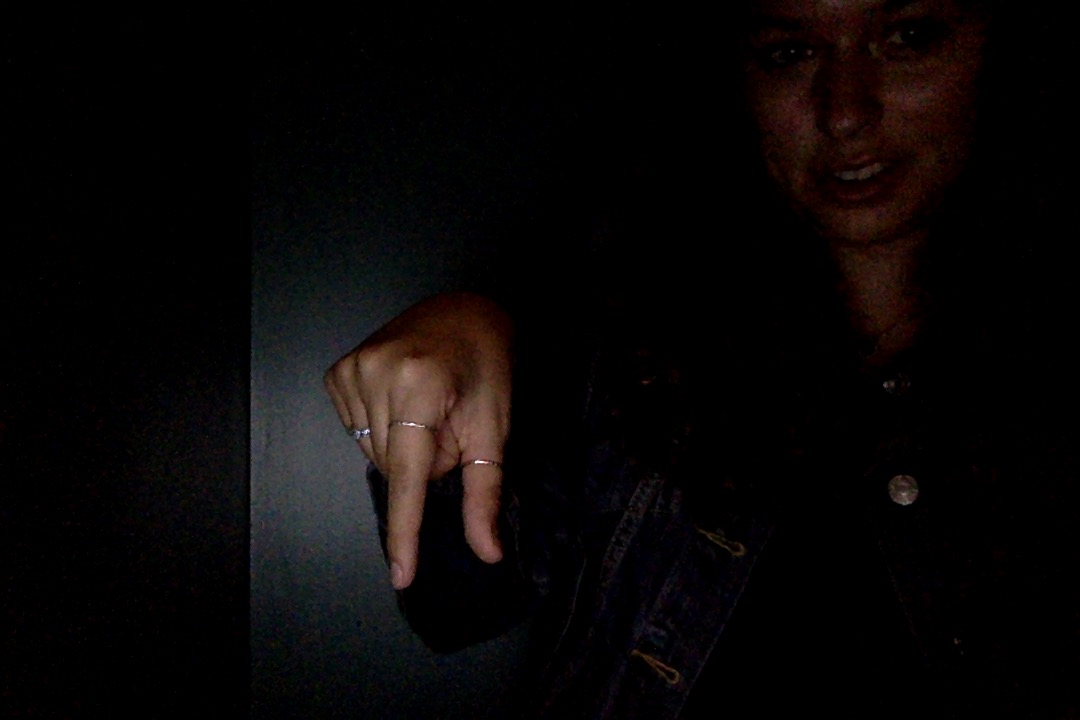q: (315, 260, 527, 601)
